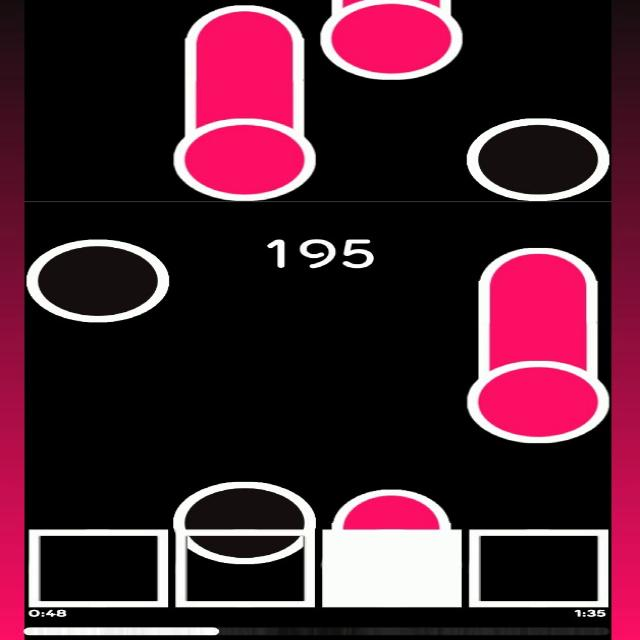end_hold: (181, 0, 311, 52), (474, 238, 606, 284), (334, 480, 451, 529)
note: (461, 111, 612, 205), (23, 237, 173, 324), (173, 477, 316, 563)
start_hold: (466, 344, 612, 447), (170, 108, 318, 202), (318, 0, 469, 79)
